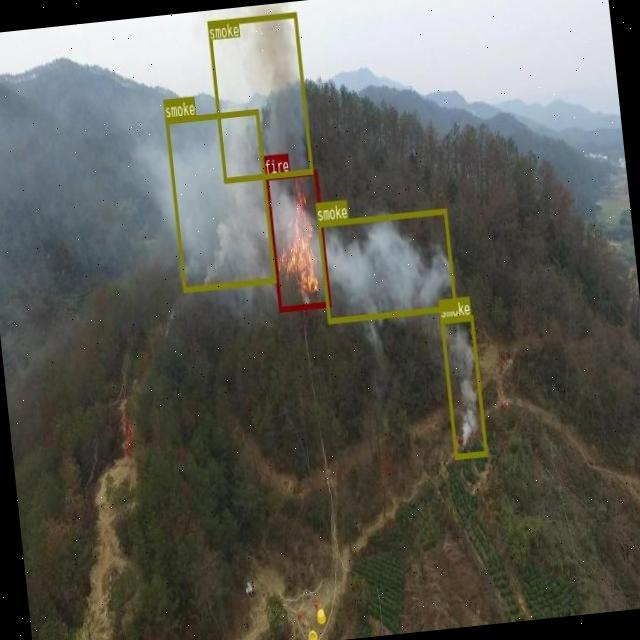fire: (264, 168, 330, 310)
smoke: (164, 107, 276, 290), (207, 11, 313, 182), (316, 208, 456, 322), (439, 314, 487, 458)
